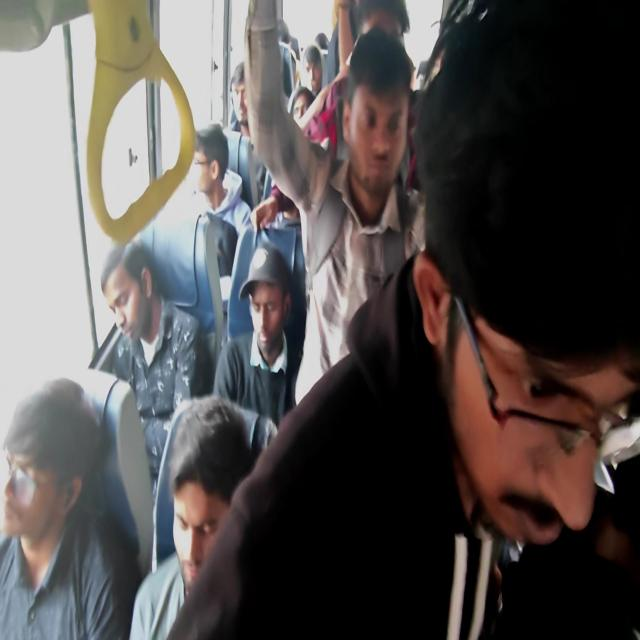person: (404, 52, 634, 572), (0, 408, 95, 559), (343, 43, 417, 236), (169, 398, 253, 550), (359, 0, 424, 136), (91, 259, 166, 354), (184, 132, 244, 226), (251, 231, 287, 377), (254, 0, 296, 74), (268, 156, 301, 231), (231, 64, 259, 147), (294, 84, 326, 143), (304, 44, 314, 101), (313, 26, 326, 50)
